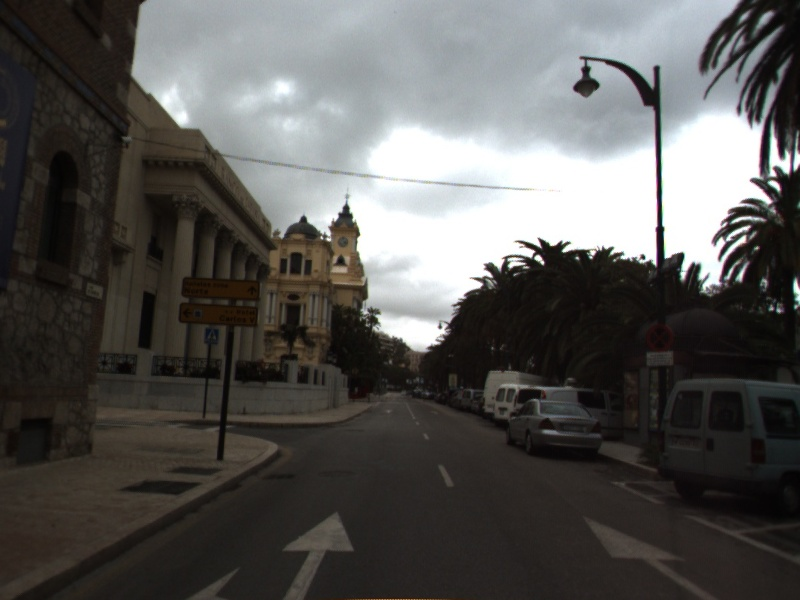STRAIGHT: (581, 514, 721, 600), (280, 509, 357, 600)
